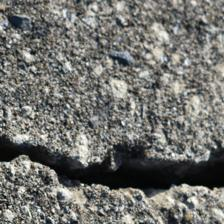Crack: (2, 60, 222, 144)
